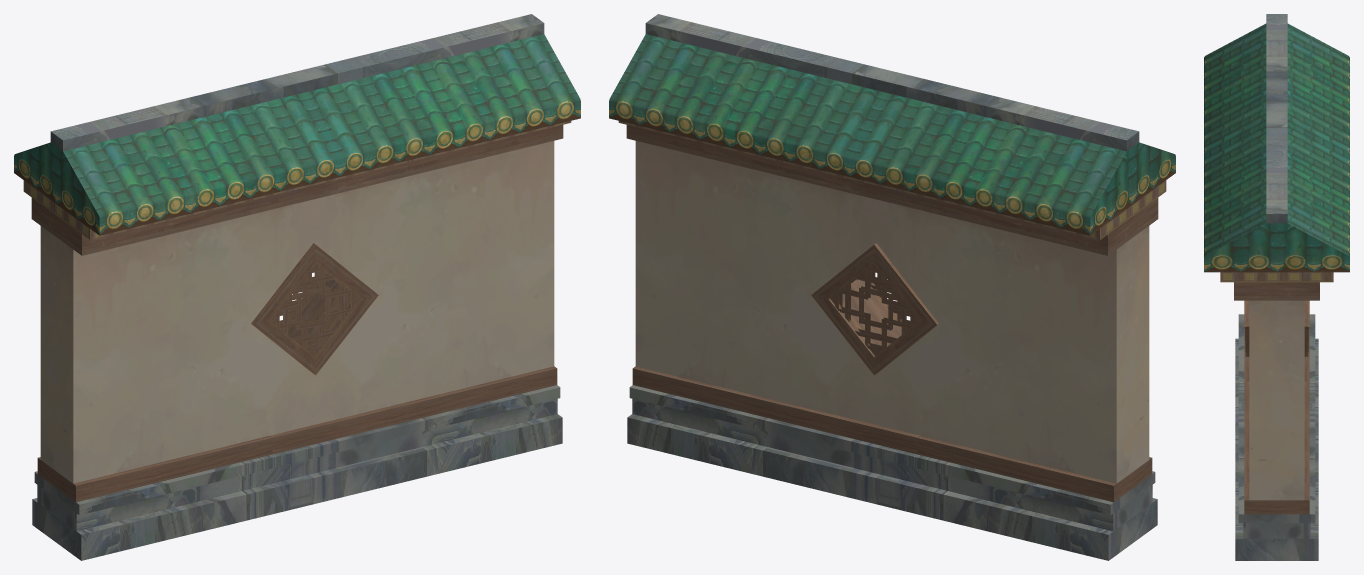
File: Homeworld_Exterior_Ly_Build_Wall_02_Vo.fbx
3 renders of one model, left to right at view 1: azimuth 30°, elevation 25°; view 2: azimuth 150°, elevation 25°; view 3: azimuth 270°, elevation 25°, orthographic. The views are drawn at different scales.
Visible parts, largest first — view 1: Homeworld_Exterior_Ly_Build_Wall_02_Vo; view 2: Homeworld_Exterior_Ly_Build_Wall_02_Vo; view 3: Homeworld_Exterior_Ly_Build_Wall_02_Vo.
Boxes of the visible parts, bbox=[...] form: Homeworld_Exterior_Ly_Build_Wall_02_Vo: bbox=[14, 14, 580, 560]; Homeworld_Exterior_Ly_Build_Wall_02_Vo: bbox=[609, 14, 1175, 560]; Homeworld_Exterior_Ly_Build_Wall_02_Vo: bbox=[1204, 14, 1349, 560].
Bounding box in the file's own units: 5 × 4.04 × 1.54.
